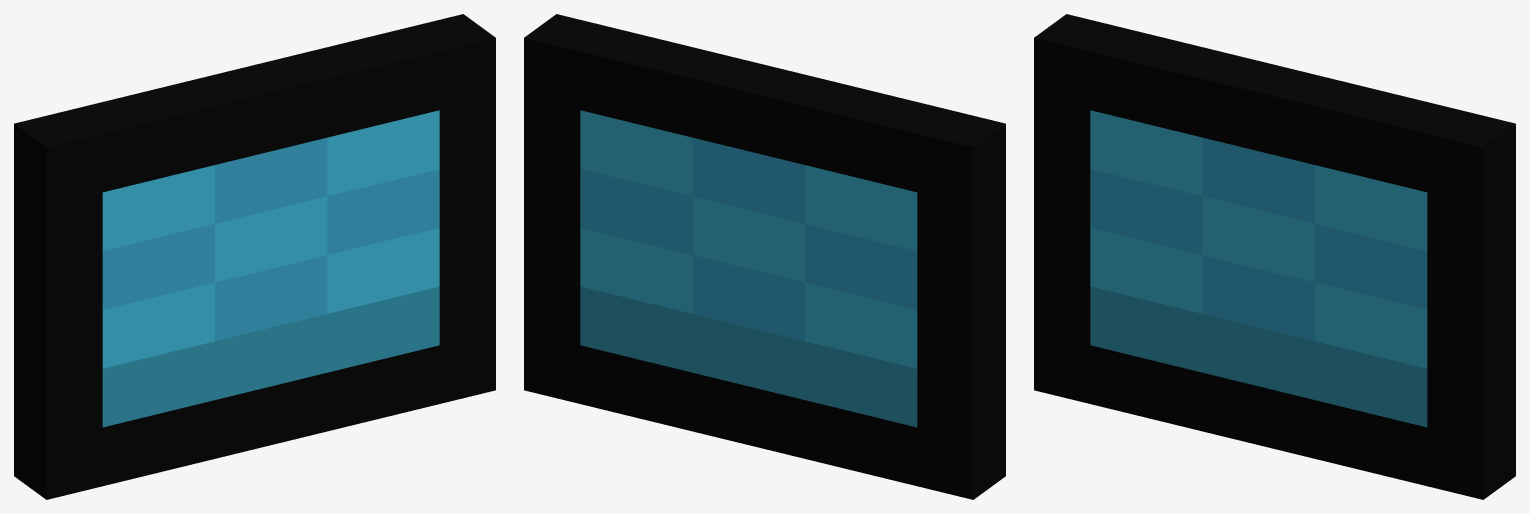
The model's file is Light Blue Carpet.glb.
The picture shows the model from 3 angles, left to right: view 1: azimuth 30°, elevation 25°; view 2: azimuth 150°, elevation 25°; view 3: azimuth 330°, elevation 25°; orthographic projection.
Visible parts, largest first — view 1: generated(Clone); view 2: generated(Clone); view 3: generated(Clone).
Boxes of the visible parts, x1,y1,x2,y2 form: generated(Clone): (14,14,495,499); generated(Clone): (524,14,1005,499); generated(Clone): (1034,14,1515,499).
Bounding box in the file's own units: 8 × 6 × 1.
Materials: 1 (1 with a texture image).
